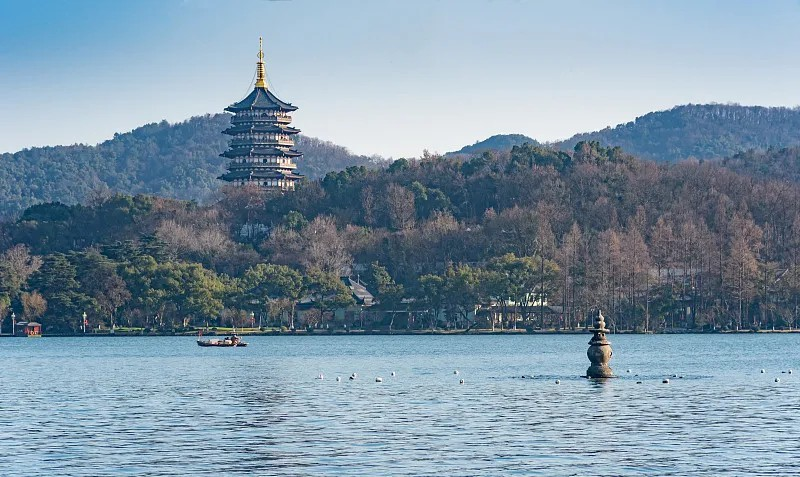Leifeng: (217, 36, 303, 196)
